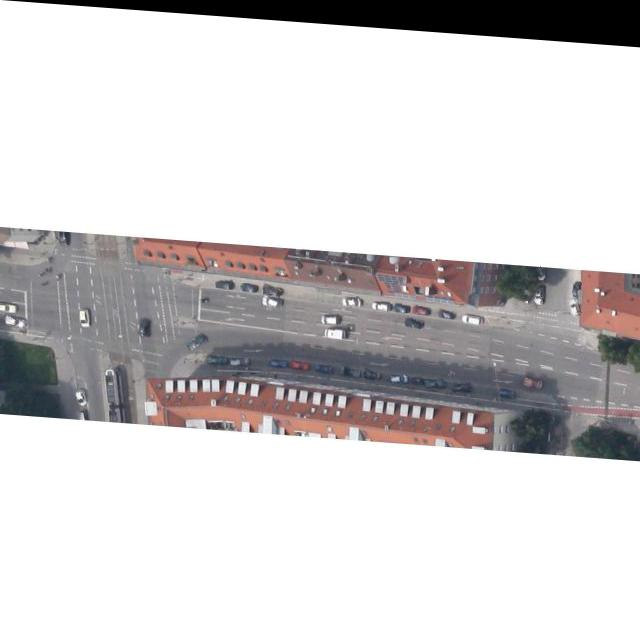vehicle: (185, 329, 209, 348), (138, 314, 152, 335), (4, 315, 26, 327), (324, 322, 346, 333), (262, 292, 282, 304), (262, 280, 282, 292), (452, 374, 472, 386), (207, 351, 227, 362), (340, 361, 360, 372), (425, 371, 445, 382), (75, 387, 87, 405), (524, 369, 542, 381), (569, 289, 581, 306), (320, 309, 340, 319), (462, 307, 484, 316), (438, 301, 456, 312), (405, 311, 423, 322), (343, 291, 361, 302), (535, 277, 545, 296), (79, 307, 89, 325), (216, 275, 234, 285), (390, 367, 408, 377), (364, 364, 380, 375), (240, 279, 258, 288), (413, 299, 431, 308), (372, 296, 390, 305), (291, 356, 309, 365), (230, 354, 250, 362), (572, 271, 582, 286), (270, 355, 288, 363), (316, 360, 332, 368), (394, 297, 408, 306), (500, 381, 514, 390), (411, 368, 423, 378), (537, 258, 545, 271)
